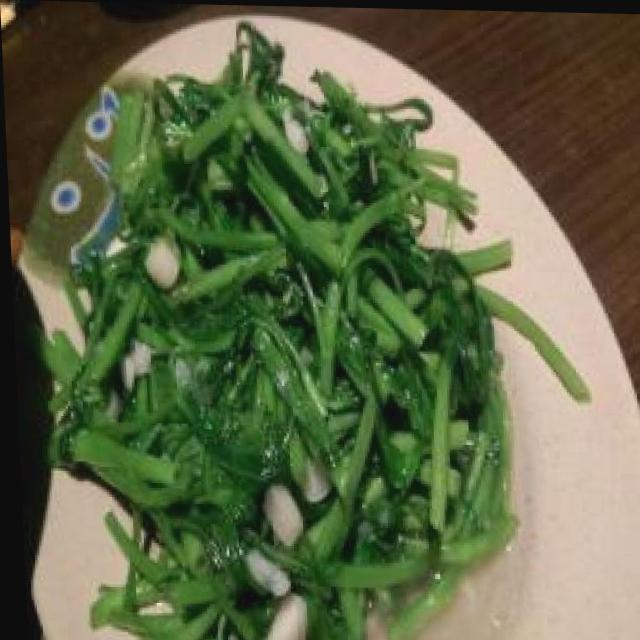water_spinach: (117, 140, 481, 599)
